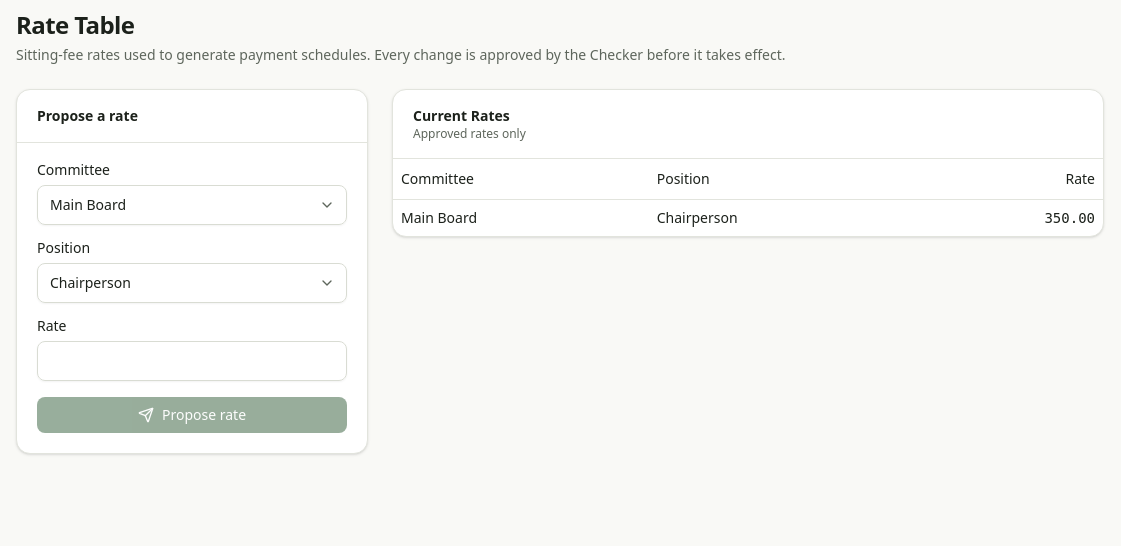
Scenario: AdminRateTable › proposes a rate change and shows a success message referencing the Pending Approvals queue
Type "400" into the number field labelled "Rate".
click(192, 361); type("400")  # box [37,341,347,381]
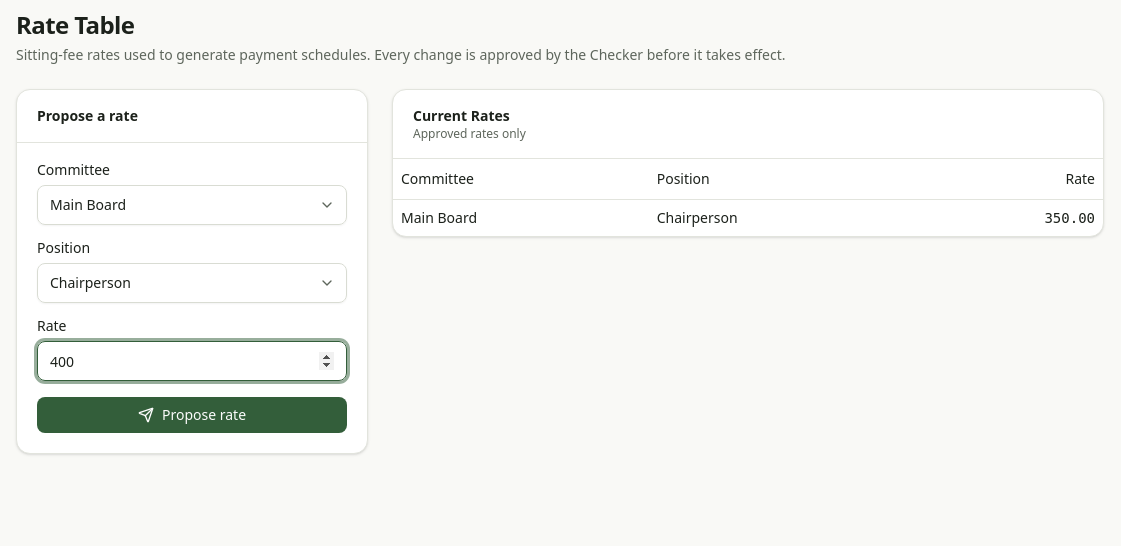
Click the button "Propose rate".
click(192, 415)  # box [37,397,347,433]
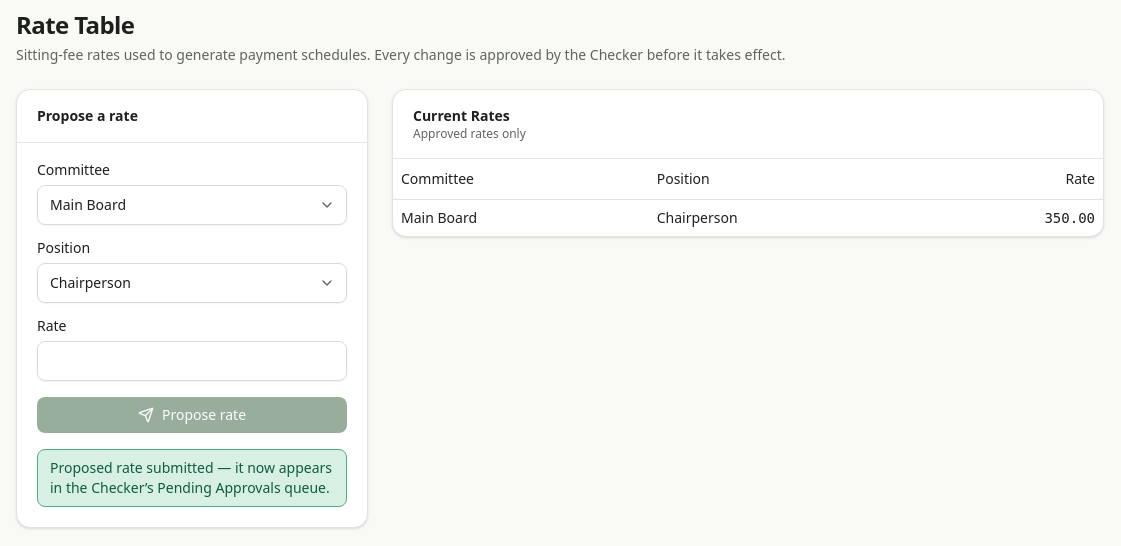
Result: the text "now appears in the Checker.s Pending Approvals queue" is shown at [50,458,332,497]
